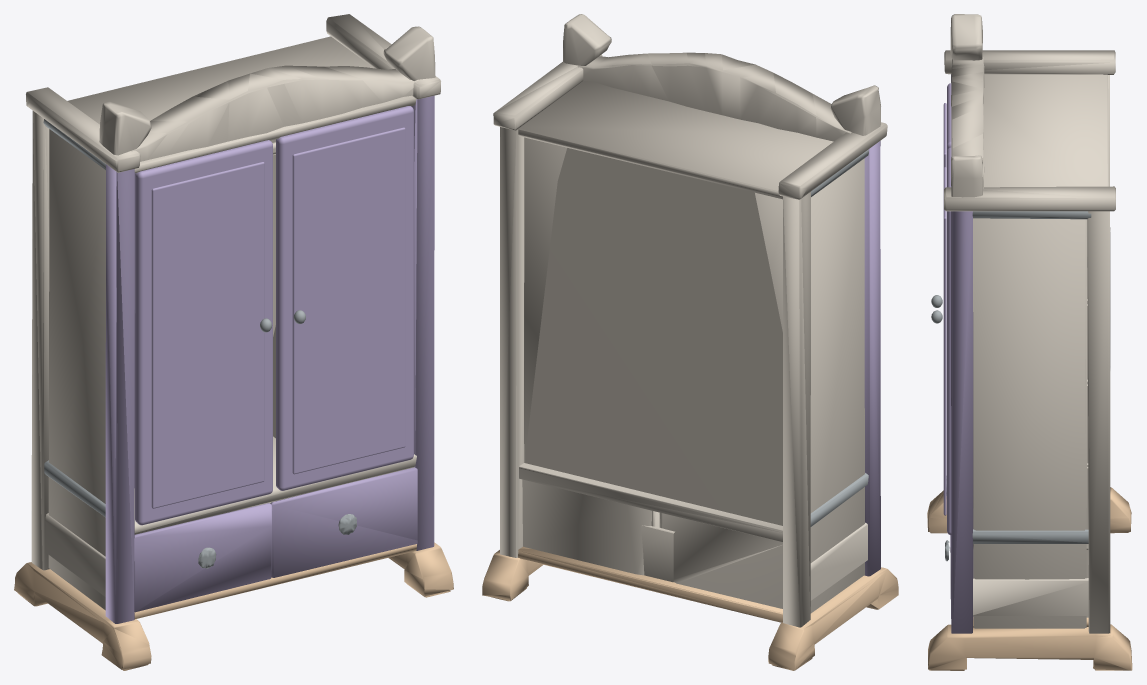
Rendered from bedroom_wardrobe.glb.
3 renders of one model, left to right at view 1: azimuth 30°, elevation 25°; view 2: azimuth 150°, elevation 25°; view 3: azimuth 270°, elevation 25°, orthographic. The views are drawn at different scales.
Size of the model in its own units: 2 by 3.15 by 1.15.
